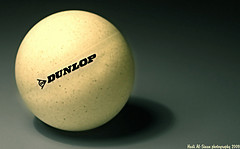tennis ball: (11, 8, 139, 134)
